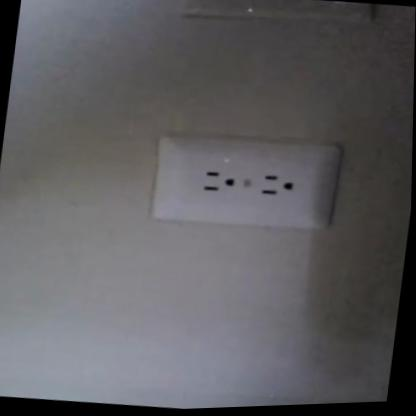OUTLET: (146, 122, 342, 238)
